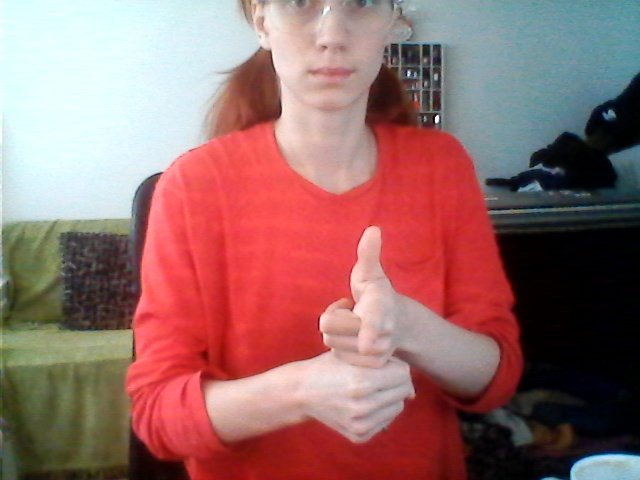kamera: (302, 224, 428, 448)
